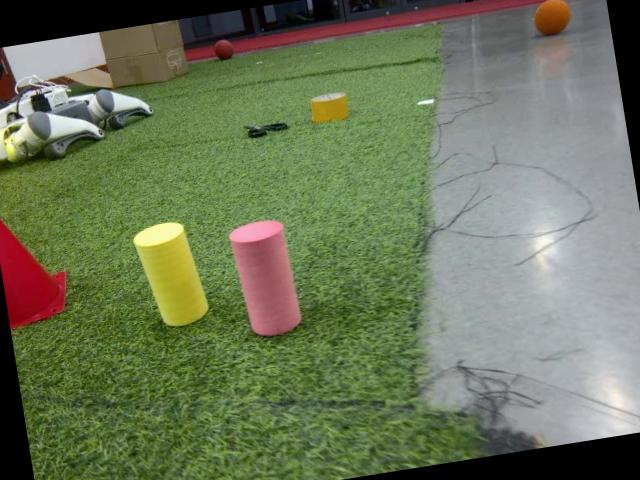orange_ball: (528, 0, 573, 38)
red_barrel: (0, 198, 74, 329)
red_cylinder: (228, 216, 304, 341)
yellow_cylinder: (126, 218, 212, 332)
